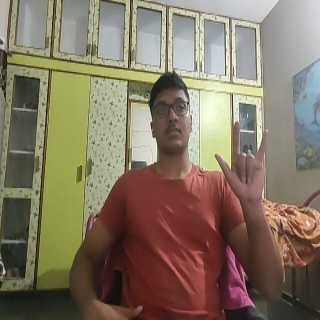Face: (149, 72, 194, 157)
I Love You: (213, 120, 271, 207)
